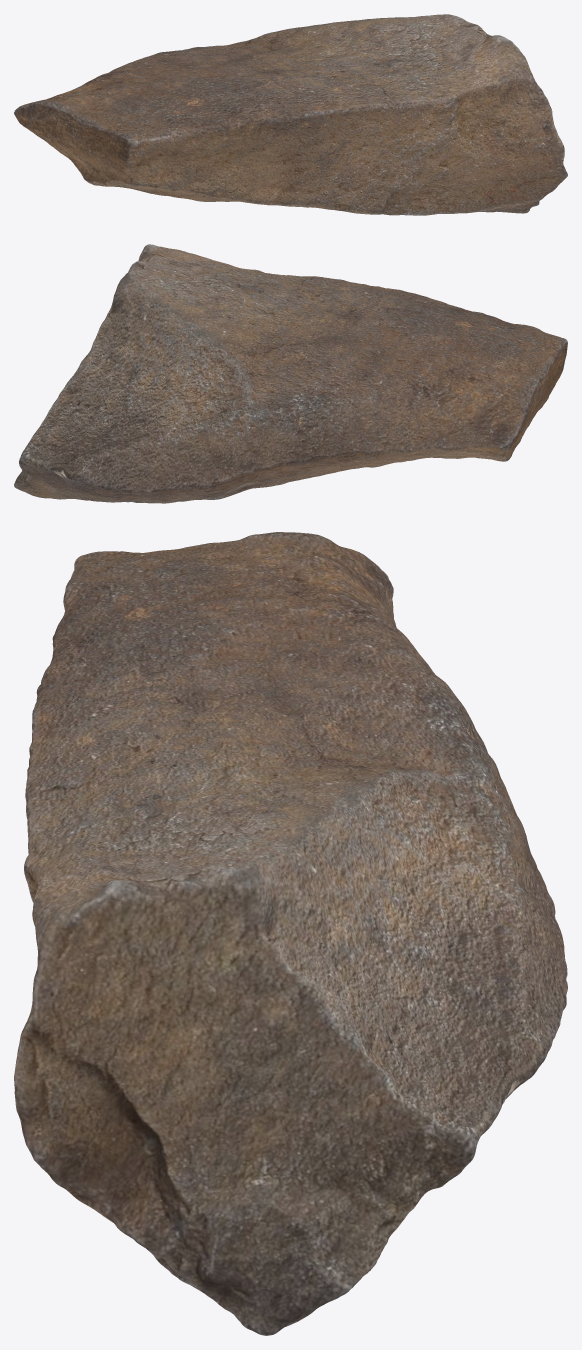
File: siltstone.glb
The picture shows the model from 3 angles, top to bottom: view 1: azimuth 30°, elevation 25°; view 2: azimuth 150°, elevation 25°; view 3: azimuth 270°, elevation 25°; orthographic projection. The views are drawn at different scales.
Visible parts, largest first — view 1: Object_3; view 2: Object_3; view 3: Object_3.
Part boxes in pixels (box(x1,y1,x2,y2)): Object_3: box(14, 14, 567, 215); Object_3: box(14, 244, 567, 503); Object_3: box(14, 532, 567, 1335).
Size of the model in its own units: 0.07 by 0.0315 by 0.0388.
Materials: 1 (1 with a texture image).
